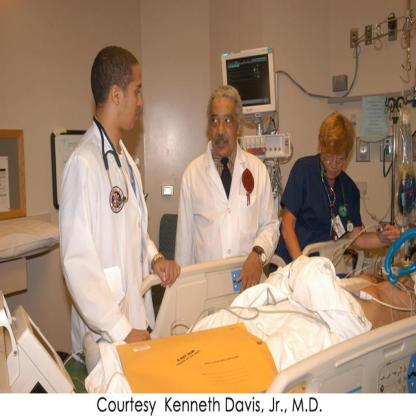face: (211, 99, 236, 154), (122, 67, 143, 131), (322, 146, 345, 180)
